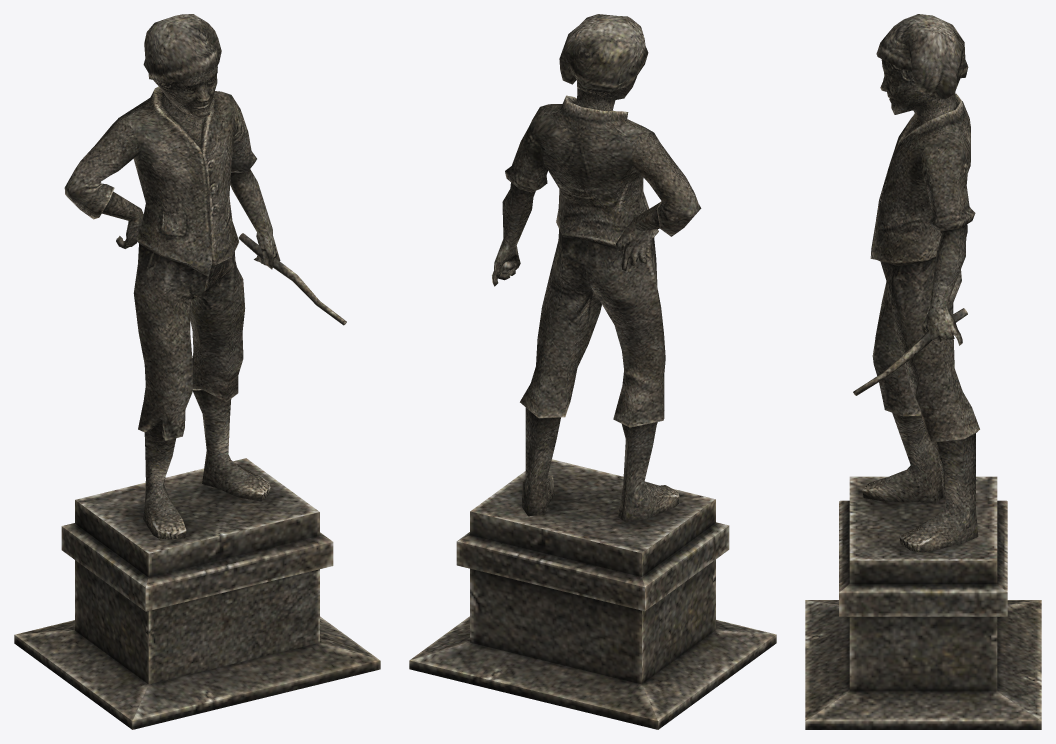
Rendered from boyStatue.dae.
3 renders of one model, left to right at view 1: azimuth 30°, elevation 25°; view 2: azimuth 150°, elevation 25°; view 3: azimuth 270°, elevation 25°, orthographic.
Parts seen in each view (by area): view 1: BoyStatue; view 2: BoyStatue; view 3: BoyStatue.
Part boxes in pixels (<box>): BoyStatue: <box>14,14,380,729</box>; BoyStatue: <box>409,14,776,729</box>; BoyStatue: <box>805,14,1041,729</box>.
Size of the model in its own units: 0.5404 by 1.33 by 0.4454.
Materials: 1 (1 with a texture image).
